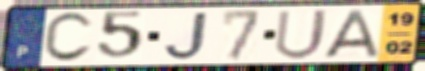5: (95, 9, 146, 64)
7: (220, 7, 262, 63)
A: (321, 9, 381, 60)
C: (41, 10, 96, 65)
J: (161, 10, 212, 62)
U: (272, 7, 332, 61)
